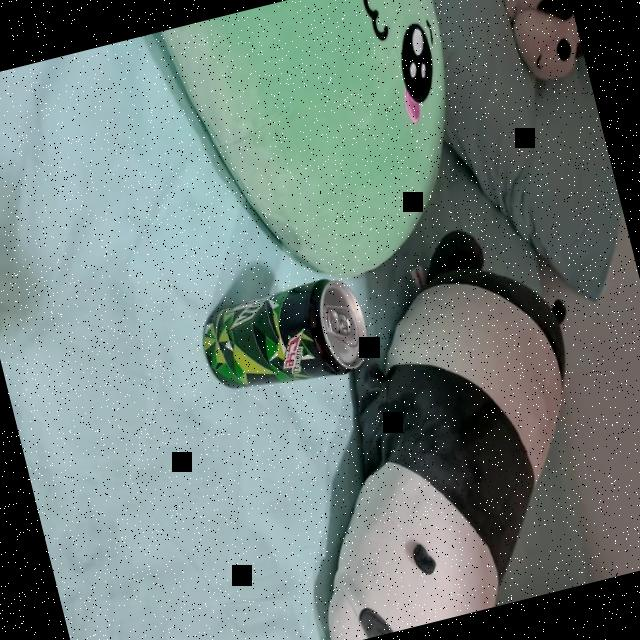can: (186, 252, 384, 422)
